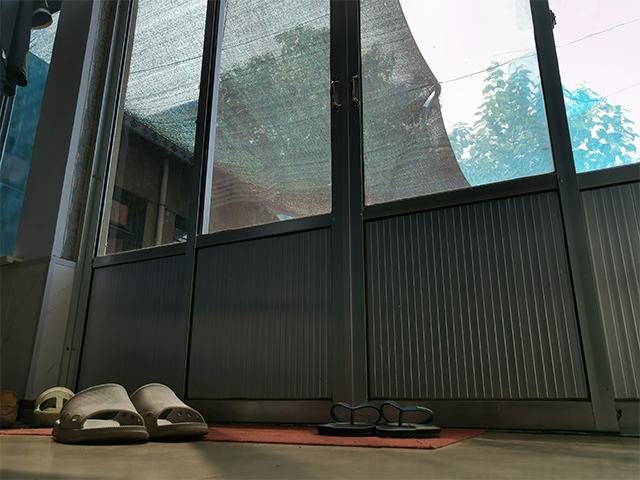carpet: (203, 419, 487, 451)
slippers: (48, 383, 146, 444), (132, 380, 211, 440), (374, 398, 443, 440), (316, 395, 379, 436), (29, 385, 75, 428)
